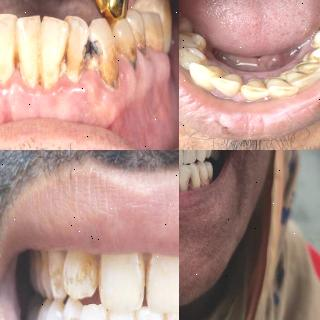Gum Swelling: (80, 47, 171, 124), (0, 71, 85, 99)
calculus: (19, 55, 41, 95), (57, 50, 77, 90), (98, 62, 120, 96), (0, 54, 14, 102), (277, 66, 299, 83), (212, 64, 235, 78), (223, 72, 247, 84), (291, 61, 314, 73), (246, 75, 264, 89), (194, 42, 210, 57), (298, 52, 318, 64), (265, 76, 283, 88), (304, 37, 320, 49), (197, 56, 213, 66), (179, 182, 187, 192)
cavities: (77, 28, 103, 76), (125, 49, 141, 78), (136, 34, 148, 65), (183, 175, 195, 195)
maligned: (42, 12, 68, 88), (60, 17, 92, 78), (16, 14, 42, 86), (0, 11, 18, 81), (179, 32, 209, 54)
stains: (97, 244, 143, 310), (147, 248, 179, 308), (68, 250, 100, 302), (120, 27, 150, 65), (44, 249, 64, 303), (100, 42, 118, 84), (54, 37, 74, 71), (11, 41, 23, 71), (290, 71, 314, 86), (297, 58, 320, 72), (241, 80, 267, 90), (217, 77, 239, 84)
